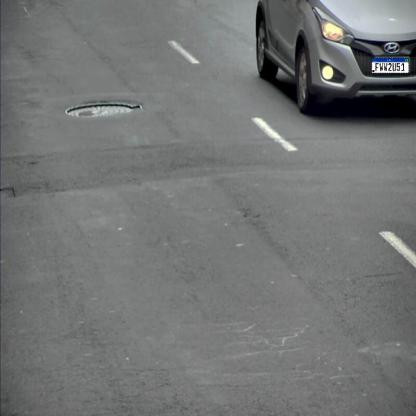PlacaM: (372, 58, 410, 74)
